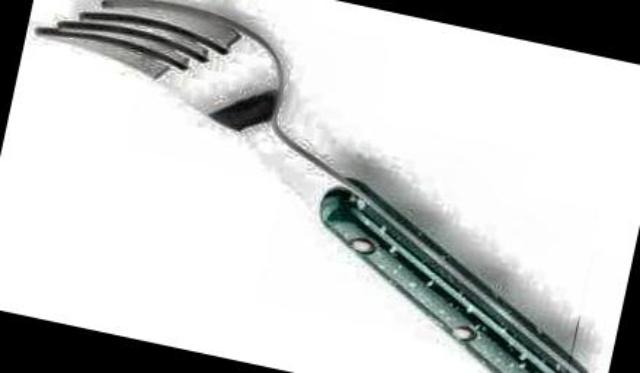Fork: (35, 0, 587, 372)
